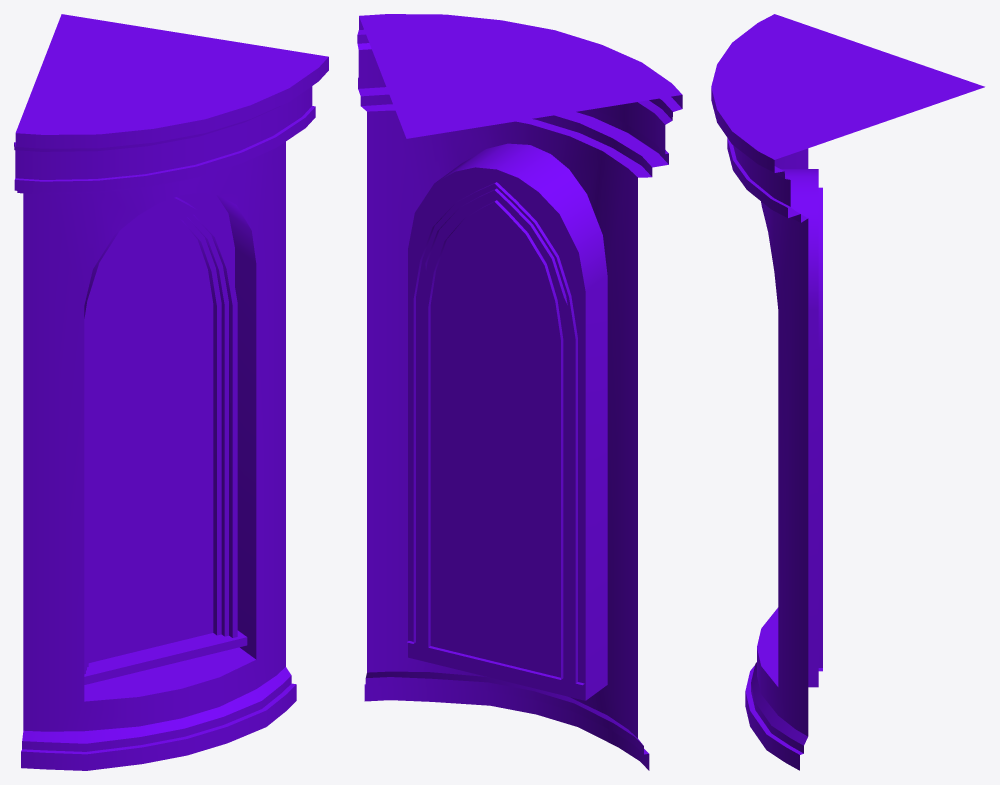
Rendered from SM_gatesidewindow.fbx.
3 renders of one model, left to right at view 1: azimuth 30°, elevation 25°; view 2: azimuth 150°, elevation 25°; view 3: azimuth 270°, elevation 25°, orthographic. The views are drawn at different scales.
Visible parts, largest first — view 1: SM_gatesidewindow; view 2: SM_gatesidewindow; view 3: SM_gatesidewindow.
Part boxes in pixels (box(x1,y1,x2,y2)): SM_gatesidewindow: box(14, 14, 328, 770); SM_gatesidewindow: box(357, 14, 682, 770); SM_gatesidewindow: box(711, 14, 984, 770).
Size of the model in its own units: 271 by 538 by 215.
